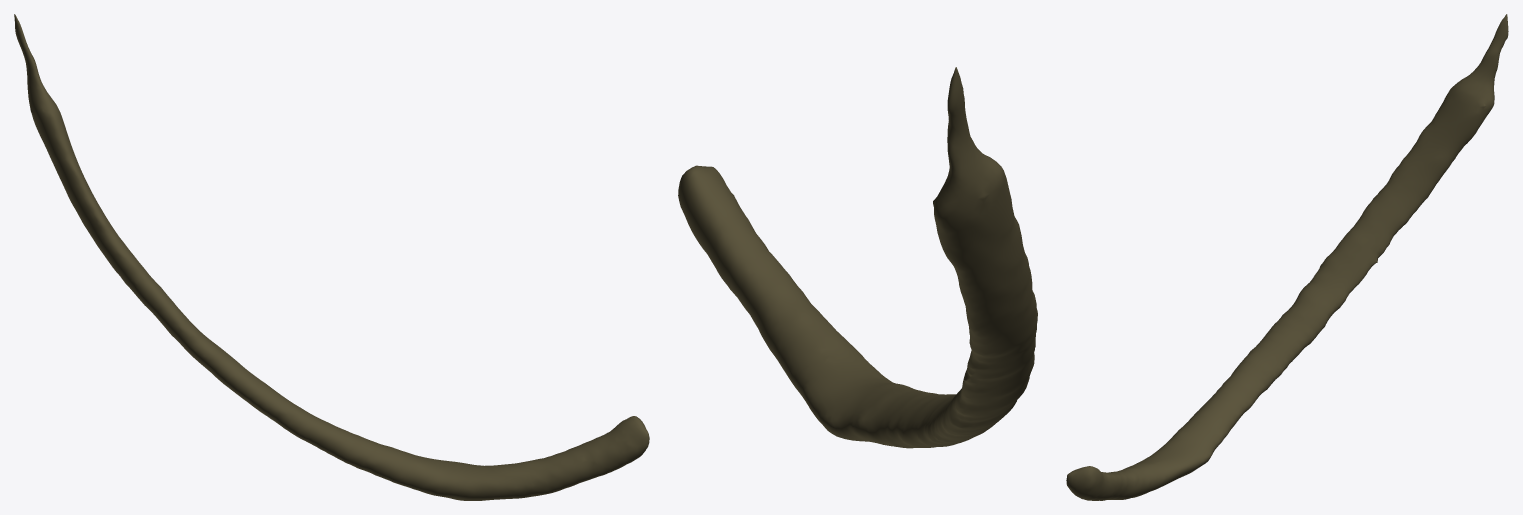
The model's file is segmentations_rib_left_10.obj.
3 renders of one model, left to right at view 1: azimuth 30°, elevation 25°; view 2: azimuth 150°, elevation 25°; view 3: azimuth 270°, elevation 25°, orthographic. The views are drawn at different scales.
Parts seen in each view (by area): view 1: grp1; view 2: grp1; view 3: grp1.
Part boxes in pixels (x1,y1,x2,y2): grp1: [14, 14, 649, 500]; grp1: [678, 67, 1037, 448]; grp1: [1066, 14, 1508, 500].
Size of the model in its own units: 74.33 by 72.82 by 81.74.
